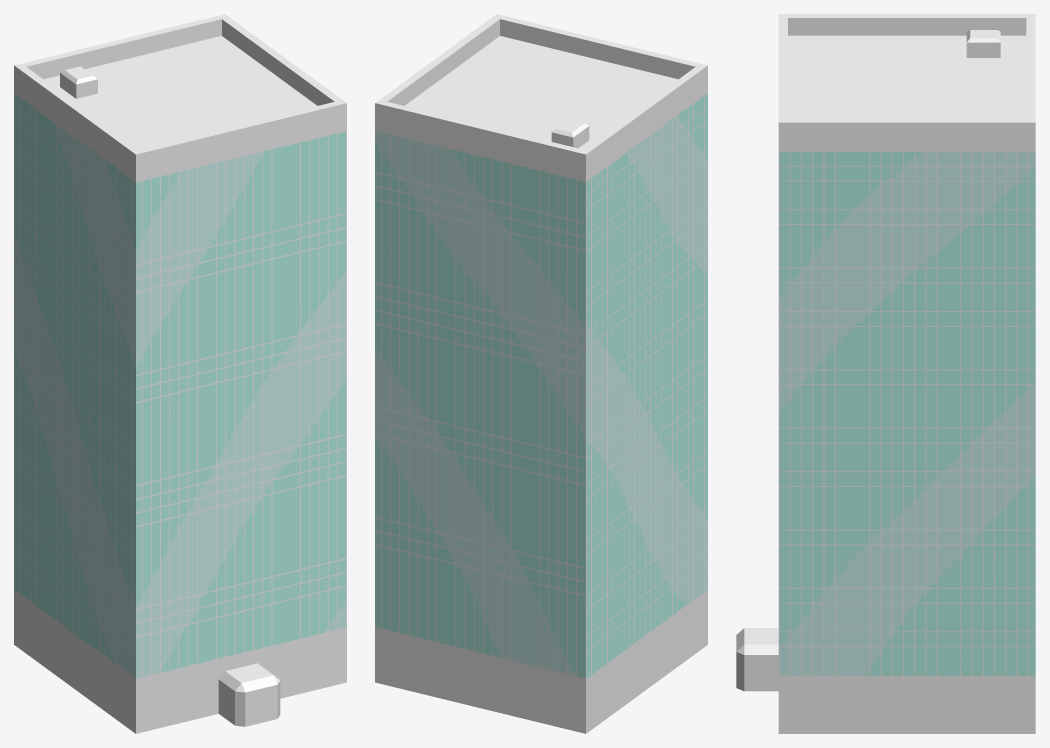
Rendered from Skyscraper 2_noGround.fbx.
3 renders of one model, left to right at view 1: azimuth 30°, elevation 25°; view 2: azimuth 150°, elevation 25°; view 3: azimuth 270°, elevation 25°, orthographic. The views are drawn at different scales.
Visible parts, largest first — view 1: Cube.001; view 2: Cube.001; view 3: Cube.001.
Part boxes in pixels (bbox=[...]): Cube.001: bbox=[14, 14, 346, 733]; Cube.001: bbox=[375, 14, 707, 733]; Cube.001: bbox=[736, 14, 1035, 733].
Bounding box in the file's own units: 80 × 210 × 93.19.
